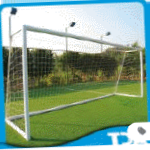goals: (5, 26, 146, 137)
